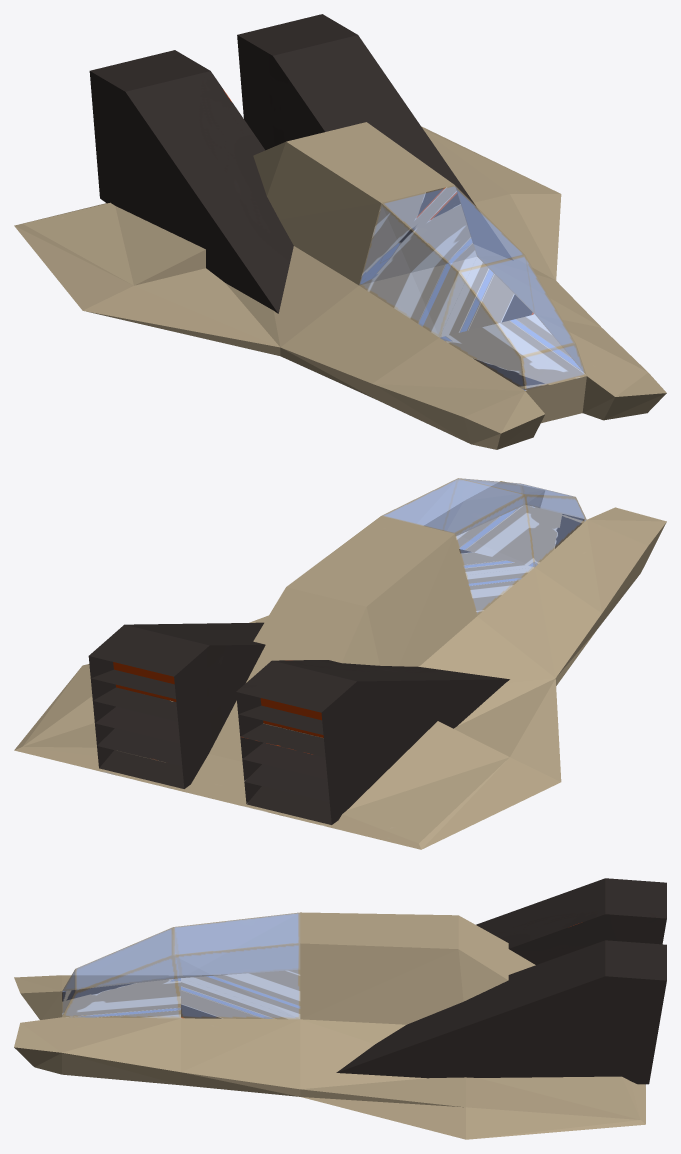
File: ship3.dae
3 views of the same model, one above another, from view 1: azimuth 30°, elevation 25°; view 2: azimuth 150°, elevation 25°; view 3: azimuth 270°, elevation 25° (orthographic). The views are drawn at different scales.
Parts seen in each view (by area): view 1: Cube_001; view 2: Cube_001; view 3: Cube_001.
Part boxes in pixels (left/top/right/bottom): Cube_001: left=14, top=14, right=666, bottom=449; Cube_001: left=14, top=478, right=666, bottom=849; Cube_001: left=14, top=878, right=666, bottom=1139.
Size of the model in its own units: 3.01 by 4.12 by 0.9087.
